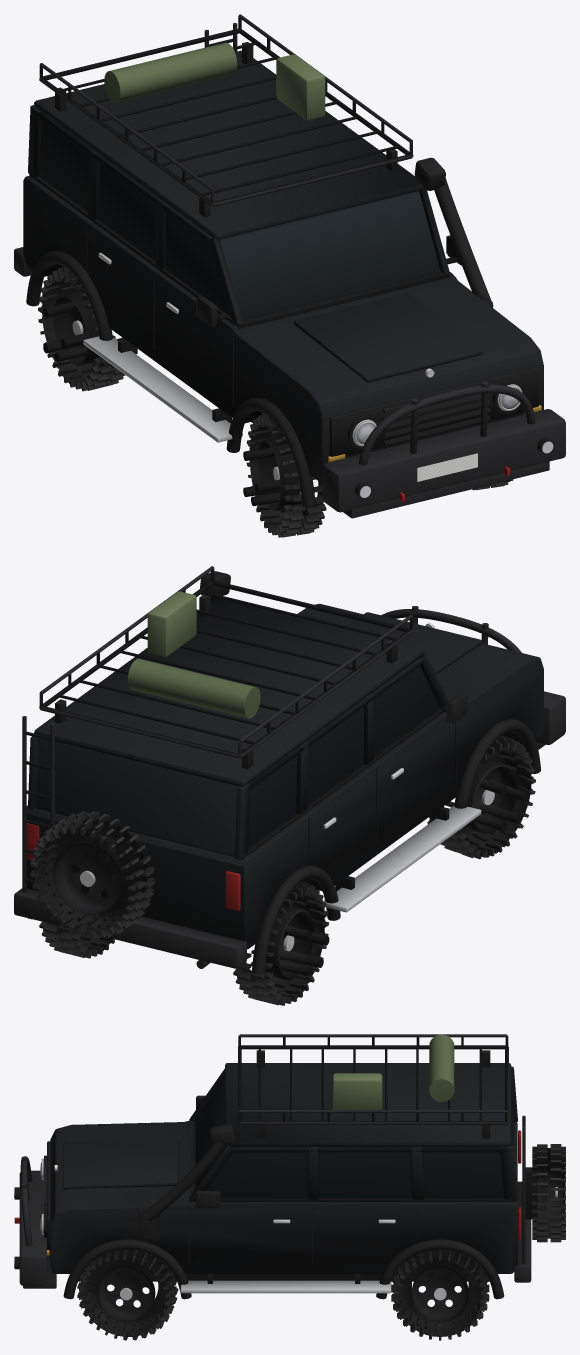
File: patrol.glb
3 views of the same model, one above another, from view 1: azimuth 30°, elevation 25°; view 2: azimuth 150°, elevation 25°; view 3: azimuth 270°, elevation 25° (orthographic). The views are drawn at different scales.
Visible parts, largest first — view 1: paint, matte, glass, plastic, rubber, tarp, alu, jerry, plate_front, lens; view 2: paint, rubber, glass, matte, plastic, tarp, alu, jerry, red; view 3: paint, rubber, glass, matte, plastic, alu, jerry, tarp.
Boxes of the visible parts, box(x1,y1,x2,y2) form: paint: box(23, 50, 543, 482); matte: box(14, 14, 565, 518); glass: box(39, 121, 447, 319); plastic: box(26, 157, 554, 506); rubber: box(38, 267, 513, 537); tarp: box(104, 42, 237, 102); alu: box(83, 336, 242, 442); jerry: box(276, 54, 325, 120); plate_front: box(417, 453, 477, 481); lens: box(354, 385, 553, 497); paint: box(26, 598, 543, 949); rubber: box(30, 735, 535, 1005); glass: box(36, 666, 451, 856); matte: box(14, 566, 565, 968); plastic: box(27, 571, 540, 974); tarp: box(127, 658, 260, 718); alu: box(323, 805, 481, 912); jerry: box(147, 591, 196, 657); red: box(26, 823, 240, 910); paint: box(50, 1063, 517, 1273); rubber: box(77, 1144, 565, 1340); glass: box(195, 1077, 513, 1206); matte: box(19, 1034, 537, 1288); plastic: box(14, 1095, 514, 1299); alu: box(180, 1280, 391, 1293); jerry: box(333, 1073, 382, 1109); tarp: box(429, 1034, 454, 1101).
Size of the model in its own units: 2.29 by 2.59 by 5.24.
